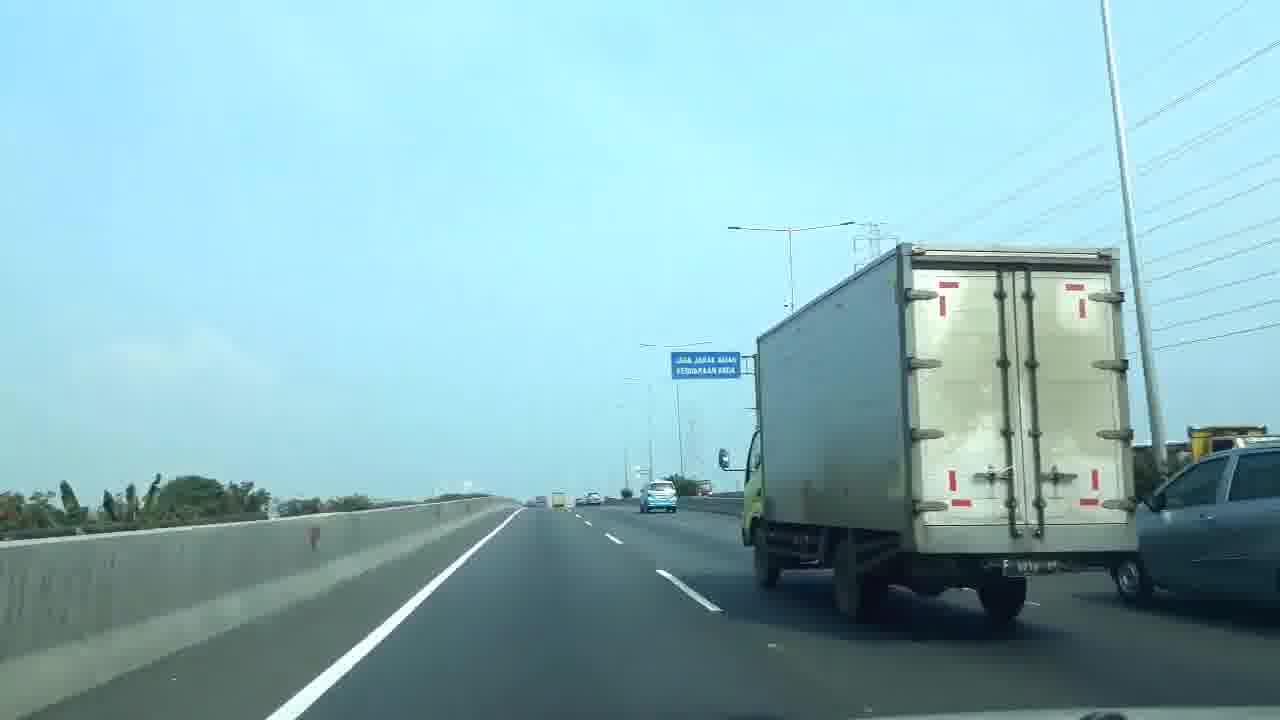plate_positive: (999, 558, 1064, 577)
